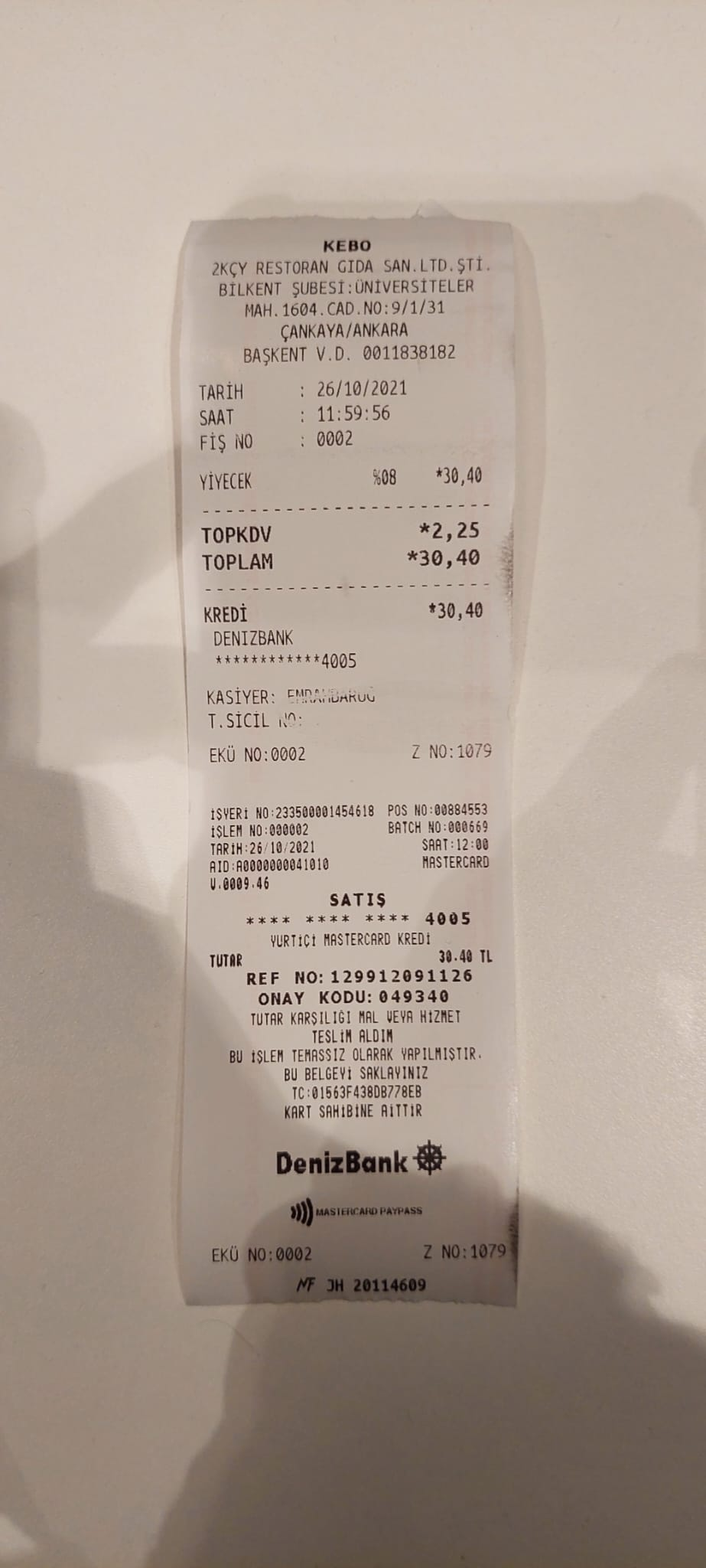date: (414, 540, 492, 570)
price: (312, 372, 412, 402)
workplace: (202, 232, 496, 342)
